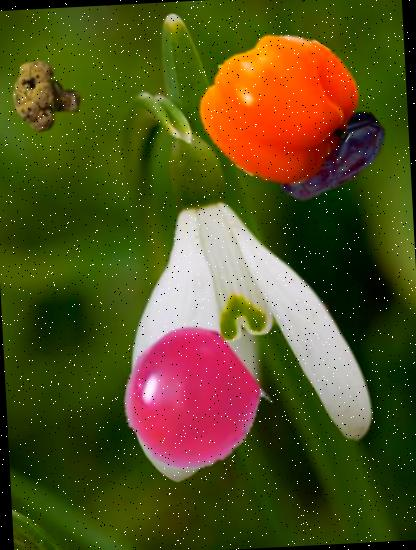Cauliflower: (8, 56, 86, 135)
Dates: (272, 97, 395, 220)
Pepper: (202, 27, 360, 185)
Redcurrant: (116, 326, 263, 474)
